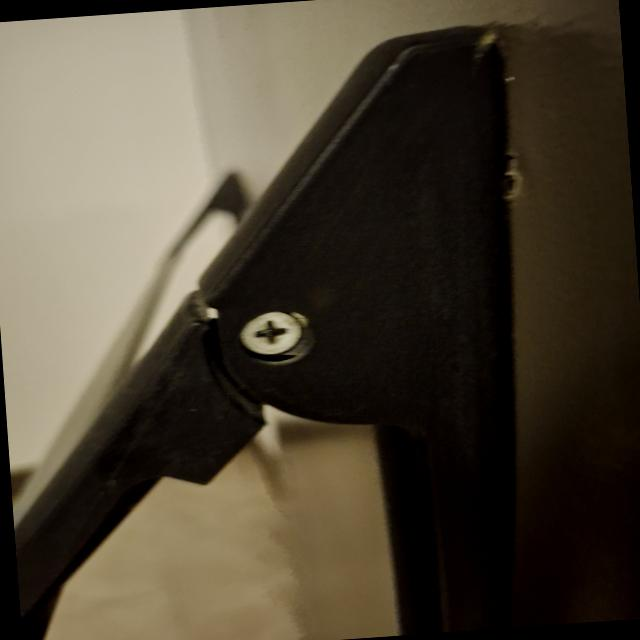Phillips: (230, 306, 318, 368)
